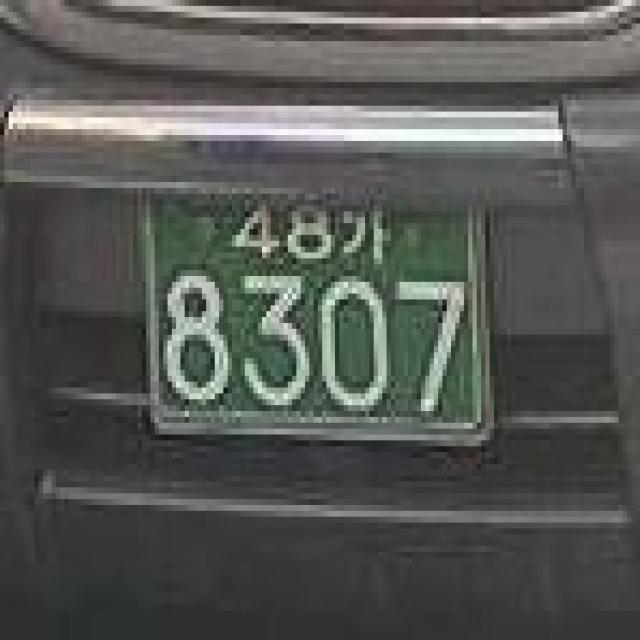illegal_plate: (128, 167, 507, 462)
